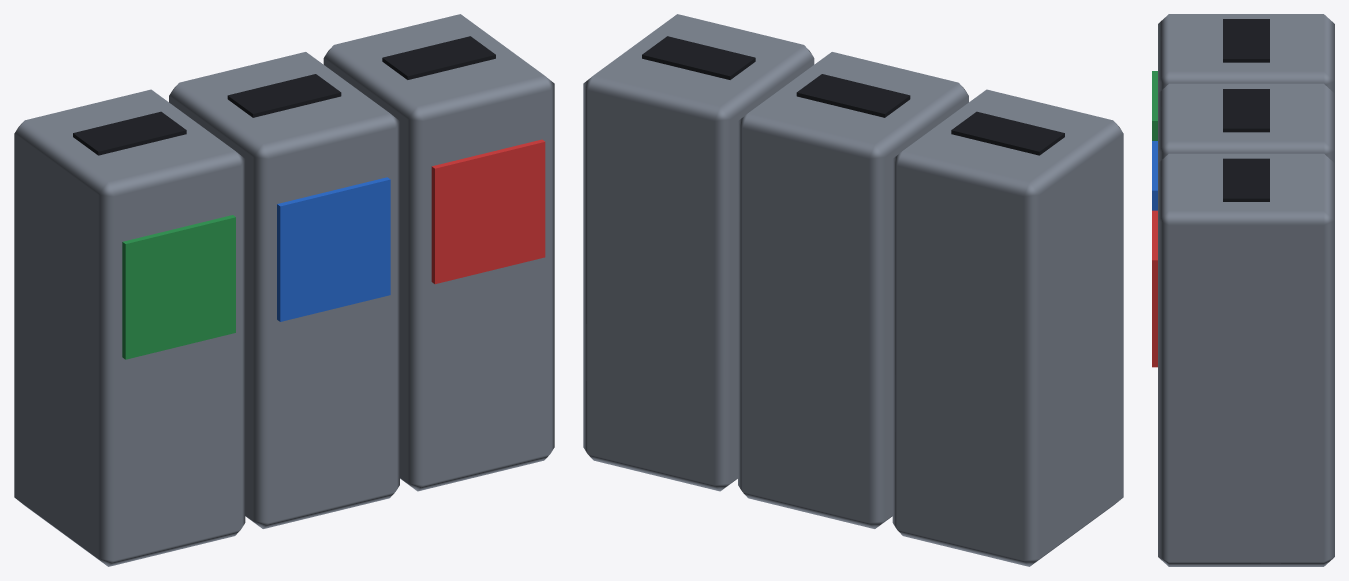
File: recycle_bins.glb
The picture shows the model from 3 angles, left to right: view 1: azimuth 30°, elevation 25°; view 2: azimuth 150°, elevation 25°; view 3: azimuth 270°, elevation 25°; orthographic projection. The views are drawn at different scales.
Parts seen in each view (by area): view 1: recycle_bins; view 2: recycle_bins; view 3: recycle_bins.
Part boxes in pixels (left/top/right/bottom): recycle_bins: left=14, top=14, right=554, bottom=566; recycle_bins: left=583, top=14, right=1123, bottom=566; recycle_bins: left=1152, top=14, right=1334, bottom=566.
Bounding box in the file's own units: 1.24 × 1.01 × 0.465.
